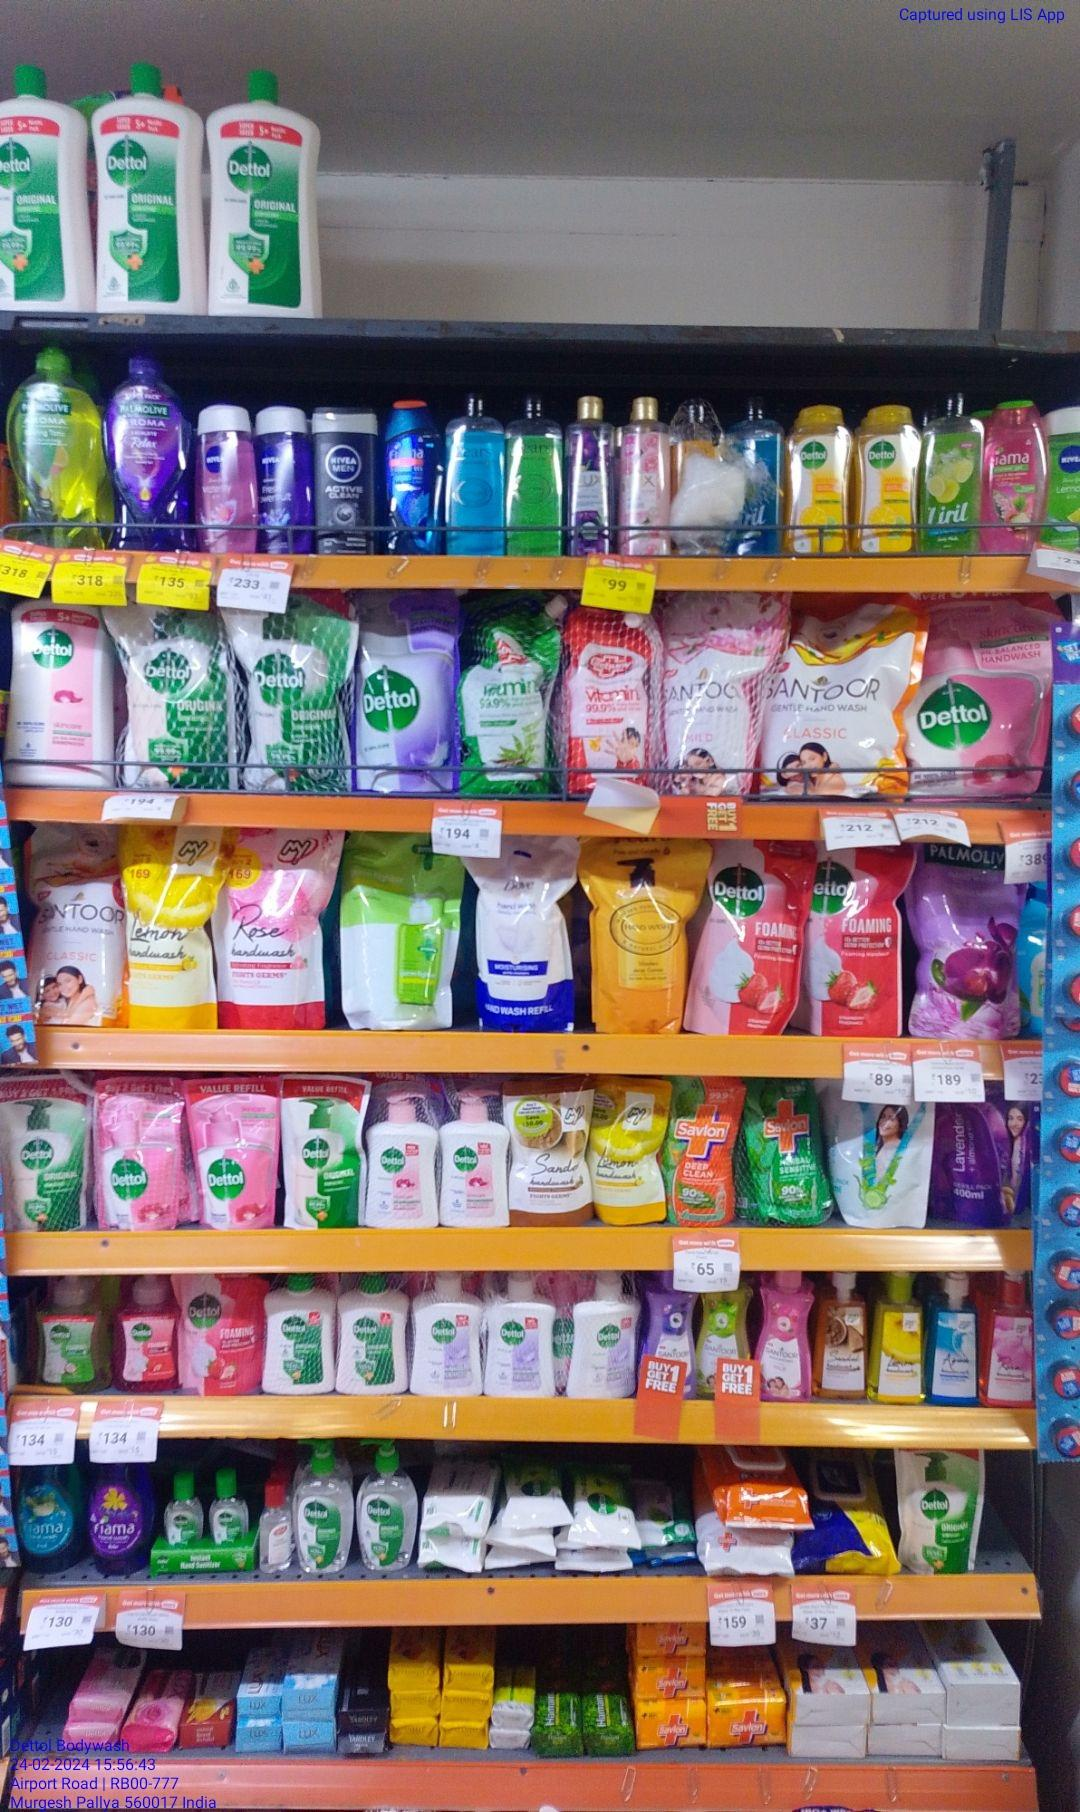Dettol_Bodywash_Refresh: (788, 407, 851, 551), (854, 413, 915, 551)
Fiama_Shower_Gel_Patchouli_and_Macadamia_250ML: (987, 392, 1047, 549)
Liril_Lime_and_Tea_Tree_Oil_Body_Wash_250ML: (919, 396, 981, 554)
Lux_Black_Orchid_Scent_and_Juniper_Oil_Body_Wash_245ML: (568, 396, 617, 556)
Nivea_Shower_Gel_Fresh_Powerfruit_250ML: (265, 404, 316, 550)
Nivea_Shower_Gel_Waterlily_and_Oil_250ML: (195, 410, 260, 554)
Pears_Pure_Glycerin_and_Lemon_Flower_Extracts_Body_Wash_250ML: (510, 396, 562, 554)
Pears_Pure_Glycerin_and_Mint_Extracts_Body_Wash_250ML: (444, 396, 505, 554)
